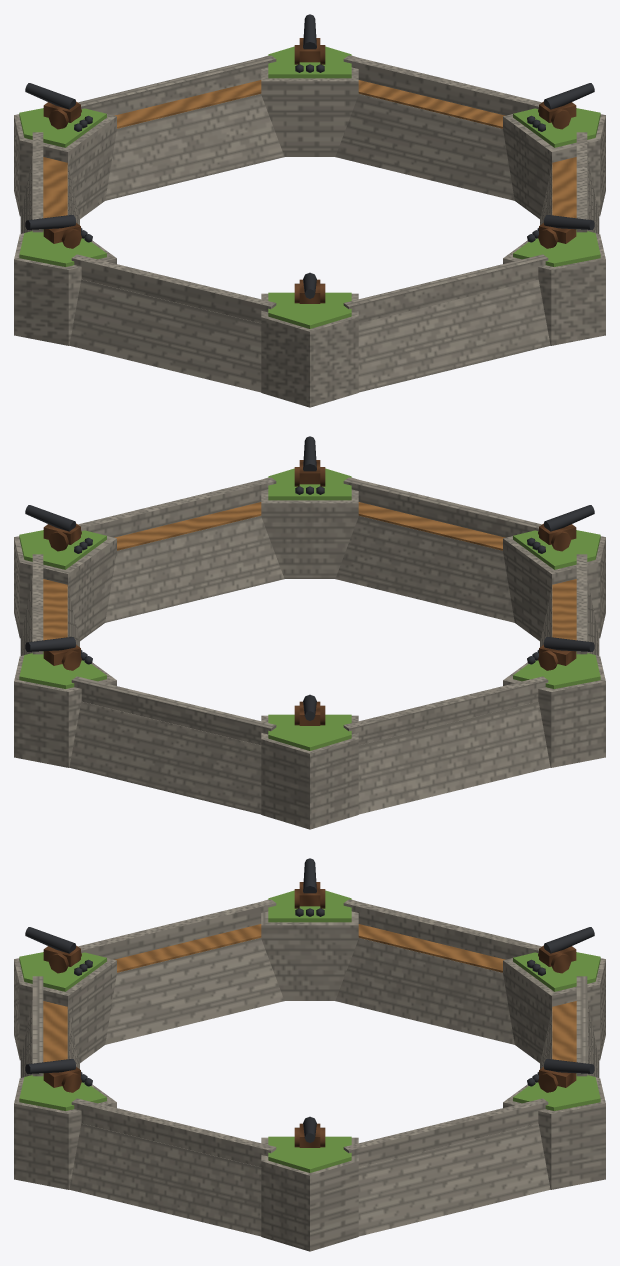
The model's file is fort_l4.glb.
The picture shows the model from 3 angles, top to bottom: view 1: azimuth 30°, elevation 25°; view 2: azimuth 150°, elevation 25°; view 3: azimuth 270°, elevation 25°; orthographic projection.
Visible parts, largest first — view 1: fort_l4; view 2: fort_l4; view 3: fort_l4.
Part boxes in pixels (x1,y1,x2,y2): fort_l4: (14, 14, 605, 407); fort_l4: (14, 436, 605, 829); fort_l4: (14, 858, 605, 1251).
Size of the model in its own units: 1.96 by 0.353 by 1.7.
1 material, 1 textured.
